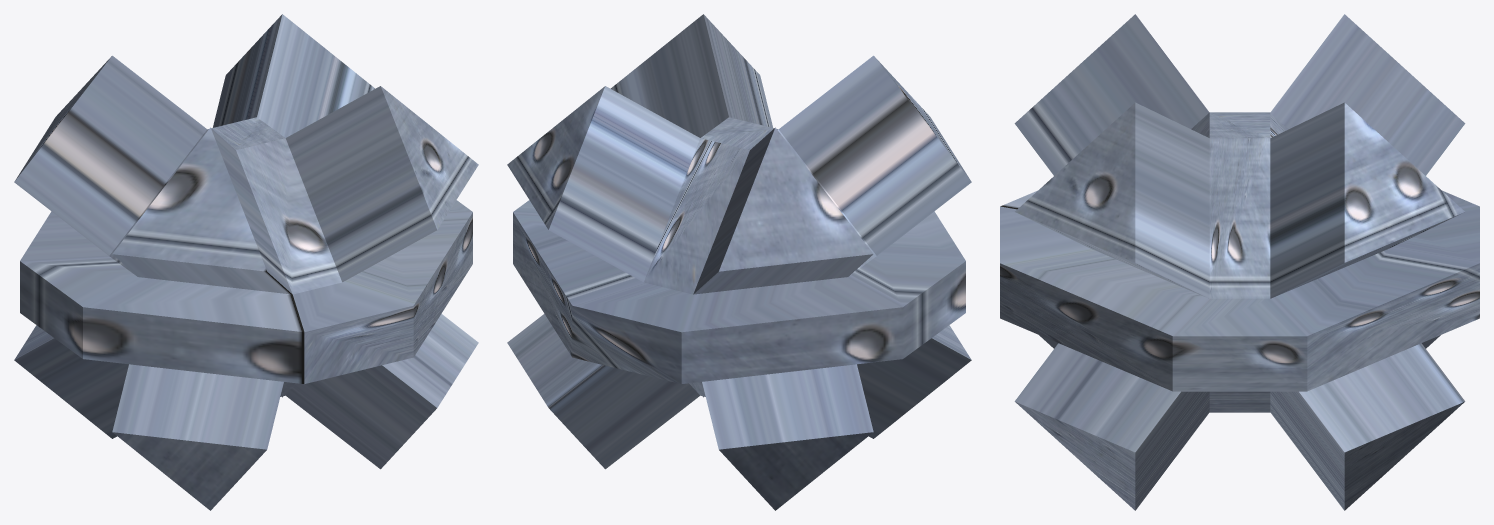
Rendered from bomb.obj.
3 views of the same model, side by side, from view 1: azimuth 30°, elevation 25°; view 2: azimuth 150°, elevation 25°; view 3: azimuth 270°, elevation 25° (orthographic). The views are drawn at different scales.
Visible parts, largest first — view 1: Cube.004; view 2: Cube.004; view 3: Cube.004.
Part boxes in pixels (x1,y1,x2,y2): Cube.004: (14, 14, 478, 510); Cube.004: (507, 14, 971, 510); Cube.004: (1000, 14, 1479, 510).
Size of the model in its own units: 3.17 by 2.98 by 3.17.
